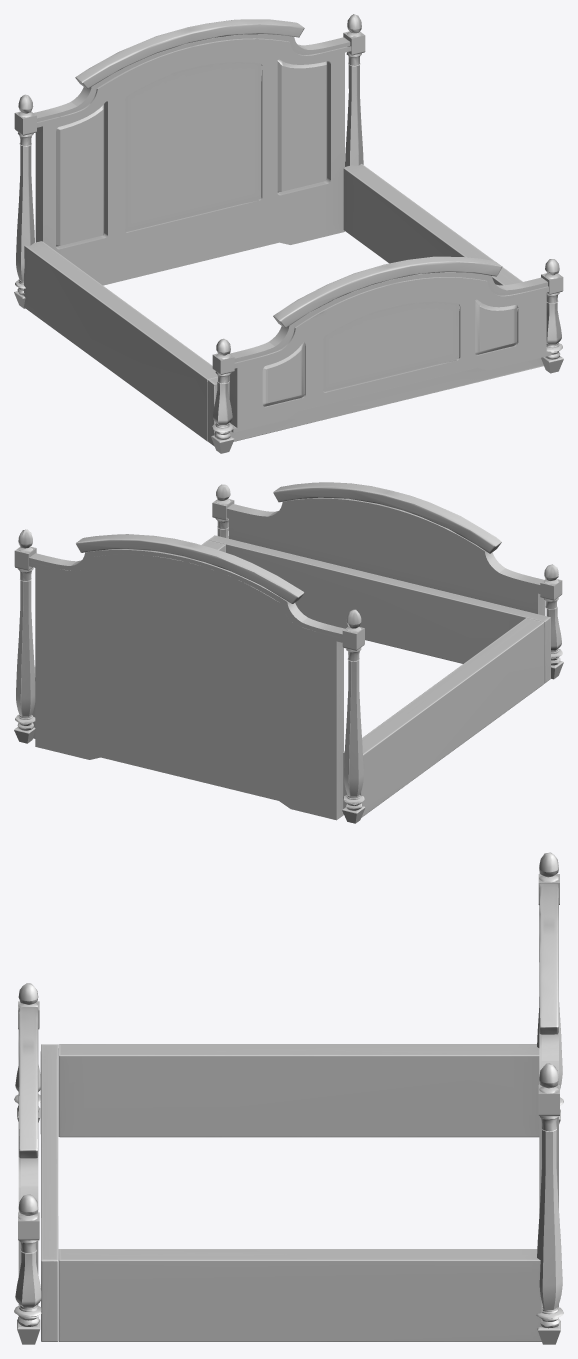
The model's file is raw_model.obj.
3 views of the same model, one above another, from view 1: azimuth 30°, elevation 25°; view 2: azimuth 150°, elevation 25°; view 3: azimuth 270°, elevation 25° (orthographic). The views are drawn at different scales.
Visible parts, largest first — view 1: solid_001; view 2: solid_001; view 3: solid_001.
Boxes of the visible parts, box(x1,y1,x2,y2) form: solid_001: box(14, 14, 563, 453); solid_001: box(14, 482, 563, 823); solid_001: box(14, 852, 563, 1344).
Bounding box in the file's own units: 2.02 × 1.31 × 2.1.
Materials: 1 (1 with a texture image).
